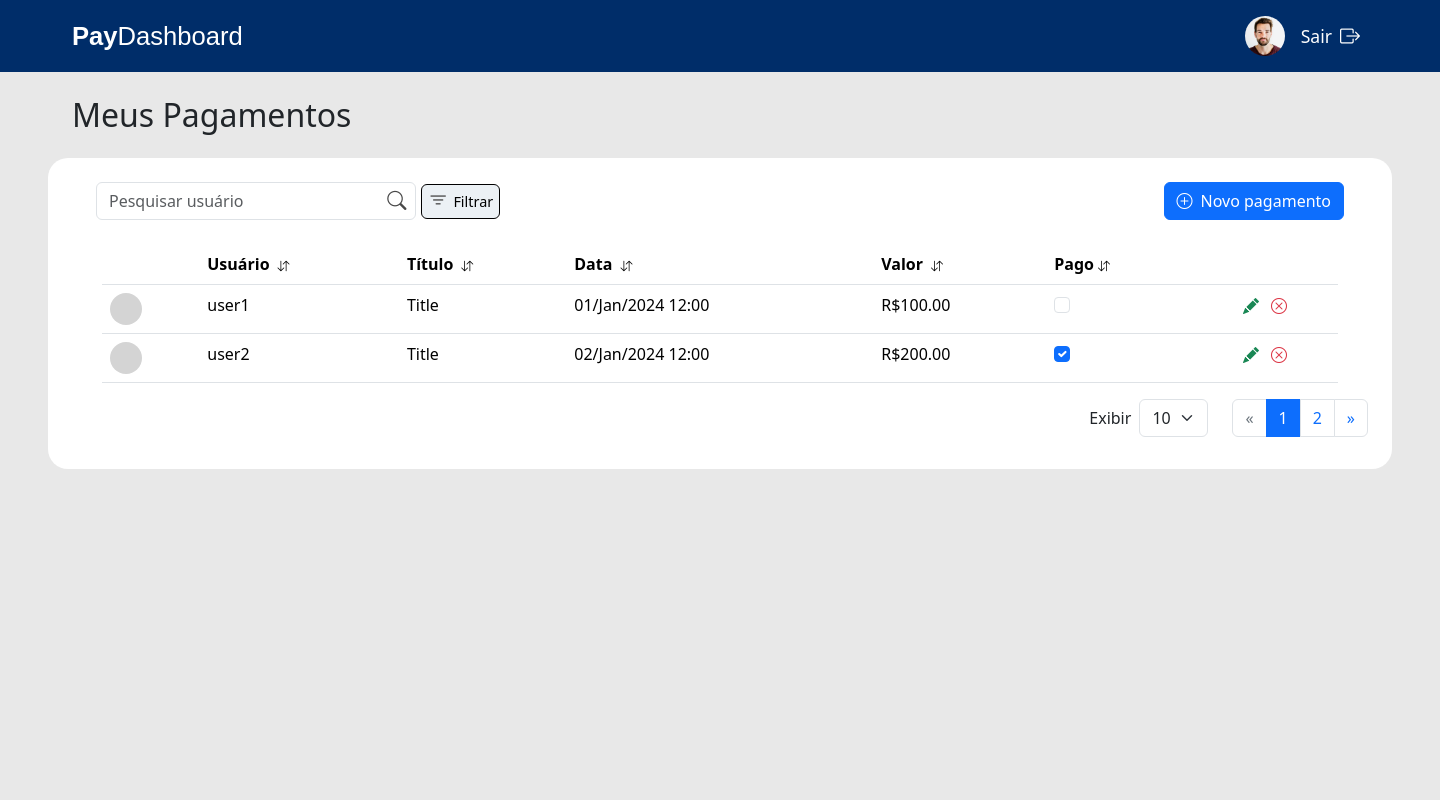
Test: Dashboard Component › edit payment › should show error message if update fail
Click the button with class "dashboard__table-btn-edit" in the row of "user1".
click(1251, 306)  # box [1237,293,1265,319]
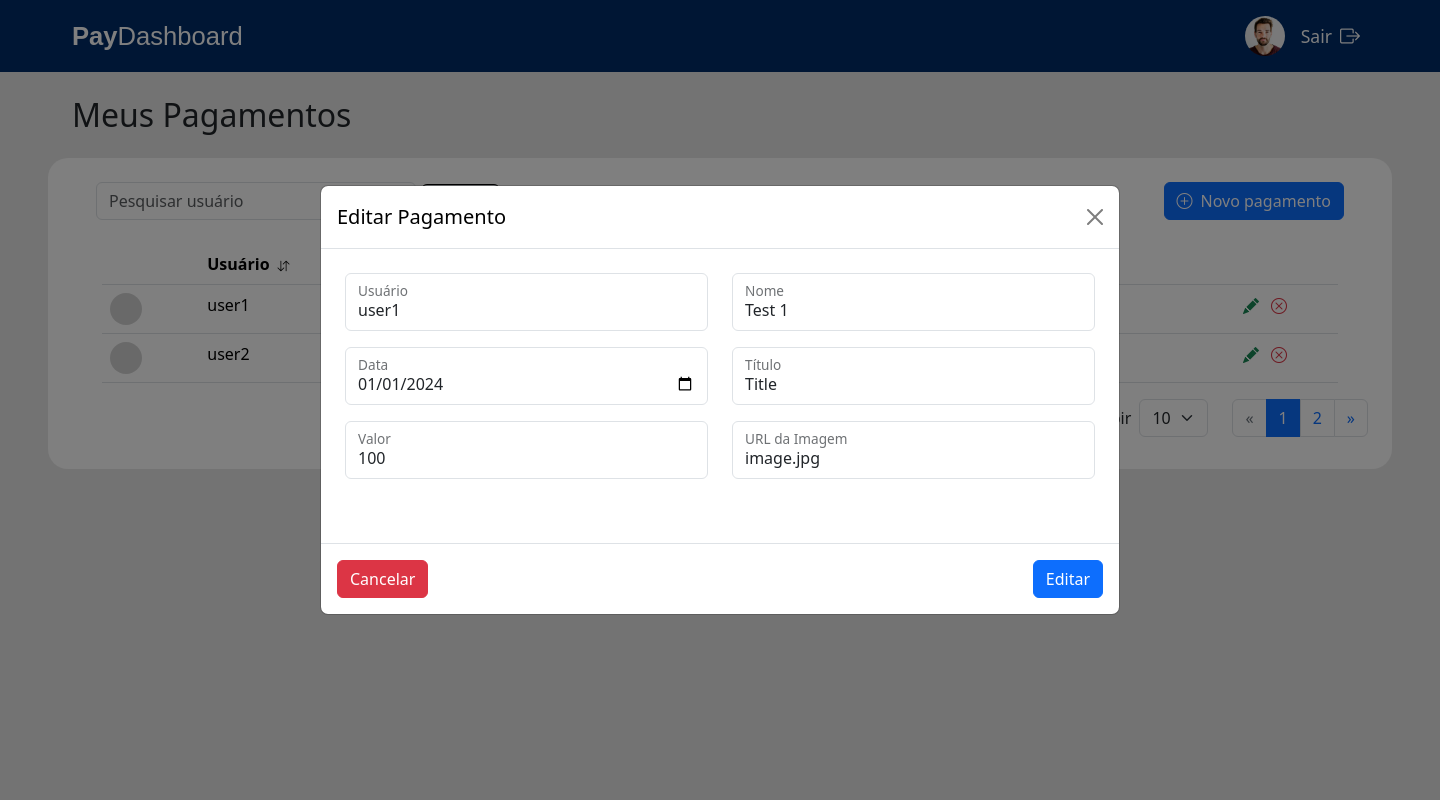
Type "Title Changed" into the field with id "title".
click(914, 376); type("Title Changed")  # box [732,347,1095,405]
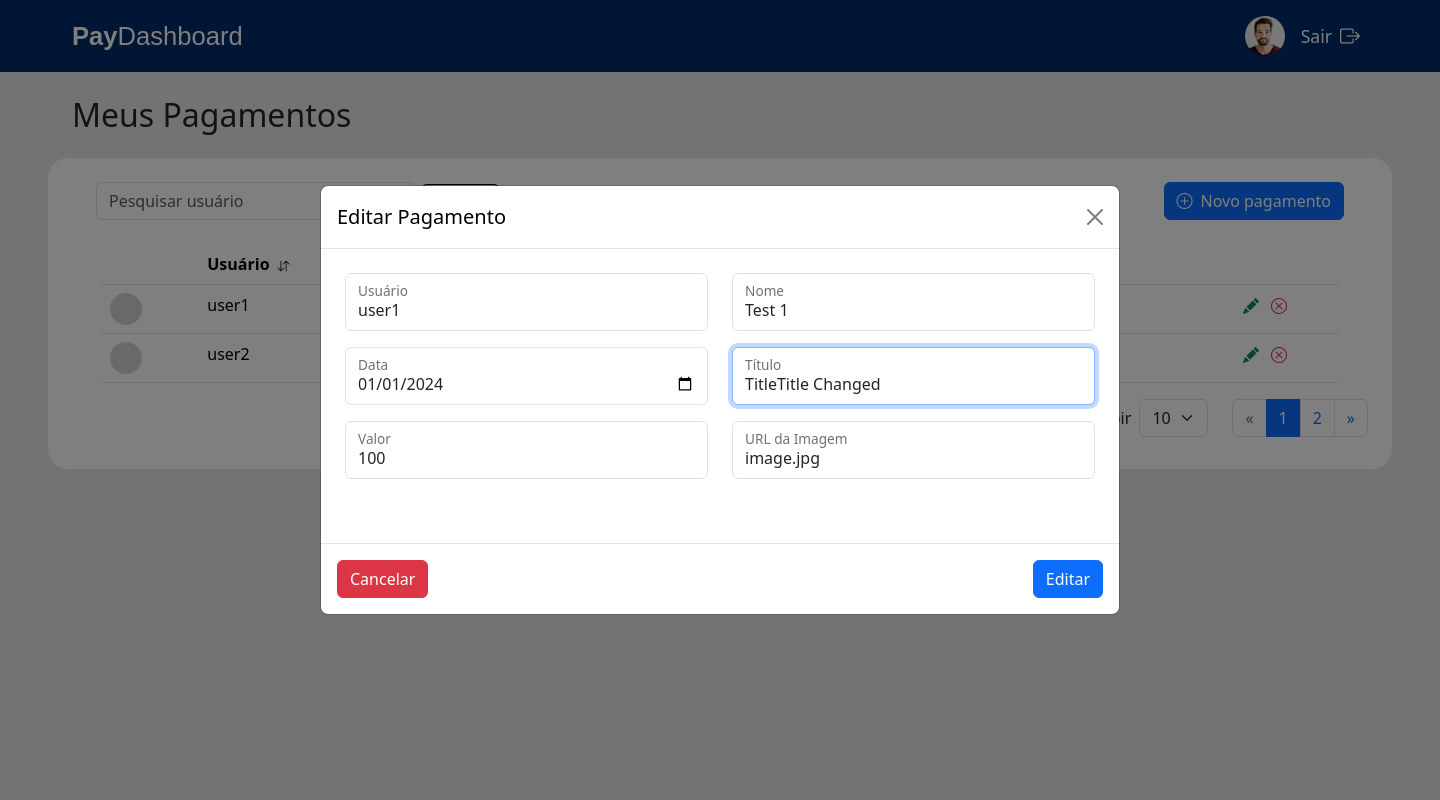
Click the button "Editar".
click(1068, 579)  # box [1033,560,1103,598]
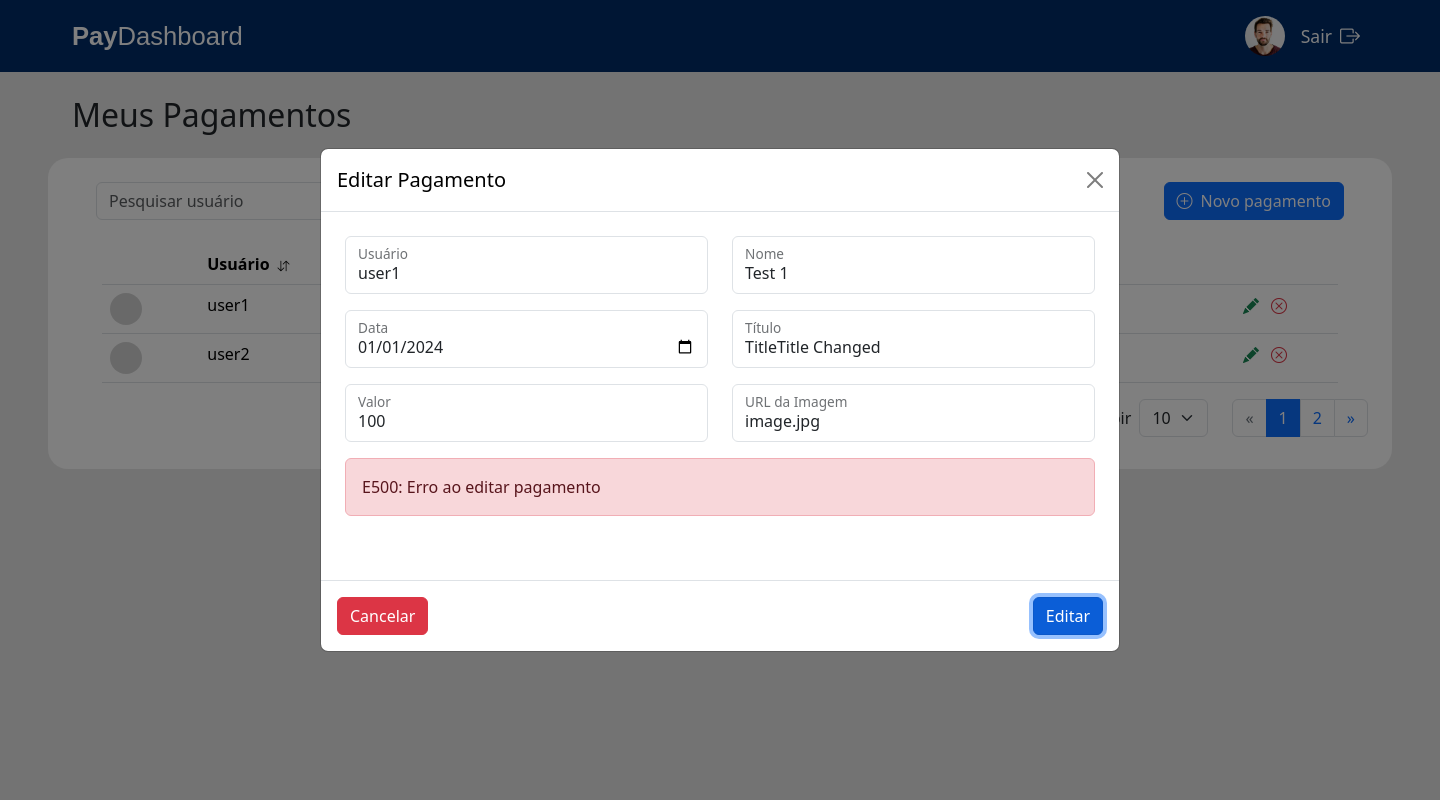
Expected: the message with class "alert-danger" reads "E500: Erro ao editar pagamento", [362,476,601,498]
Expected: the message "E500: Erro ao editar pagamento" is shown, [345,458,1095,516]
